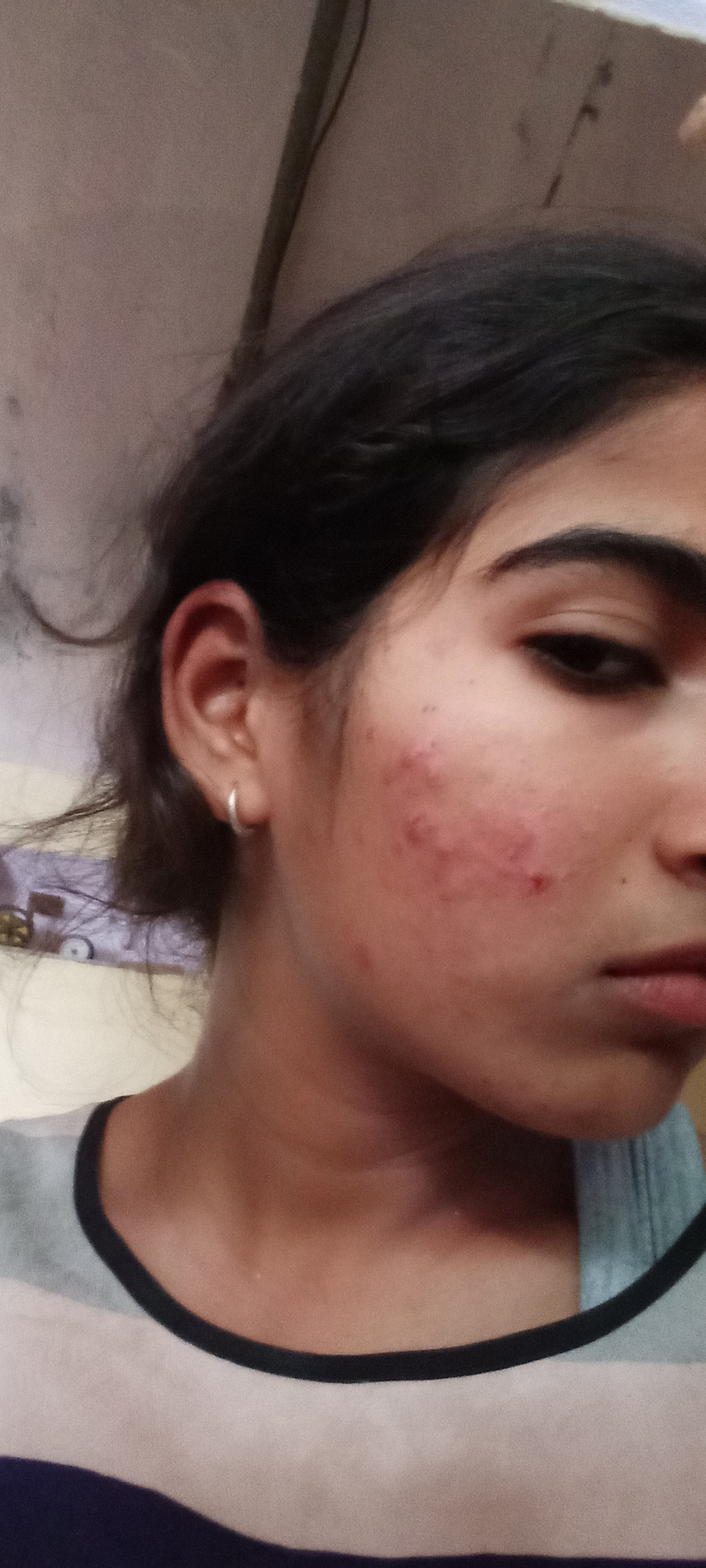nodule: (507, 830, 530, 848), (423, 764, 441, 787), (435, 838, 452, 862), (399, 749, 418, 770), (405, 825, 424, 843)
